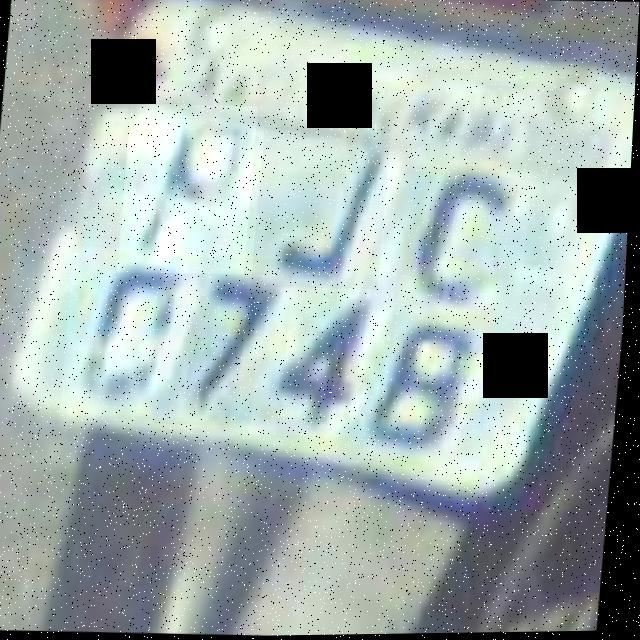0: (63, 246, 200, 419)
4: (253, 266, 399, 440)
7: (158, 256, 296, 428)
8: (348, 288, 505, 463)
C: (384, 147, 535, 307)
J: (252, 126, 392, 292)
P: (119, 102, 259, 276)
